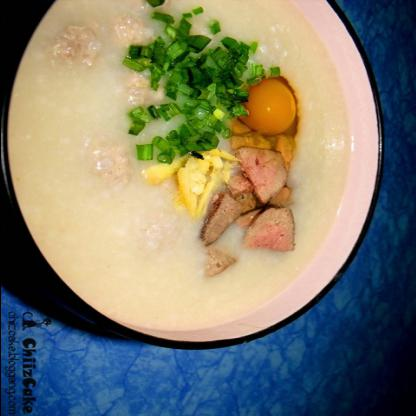Joke: (3, 0, 352, 325)
